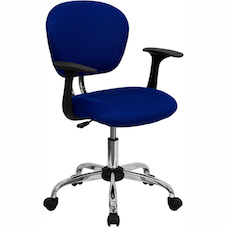chair: (13, 0, 197, 218)
